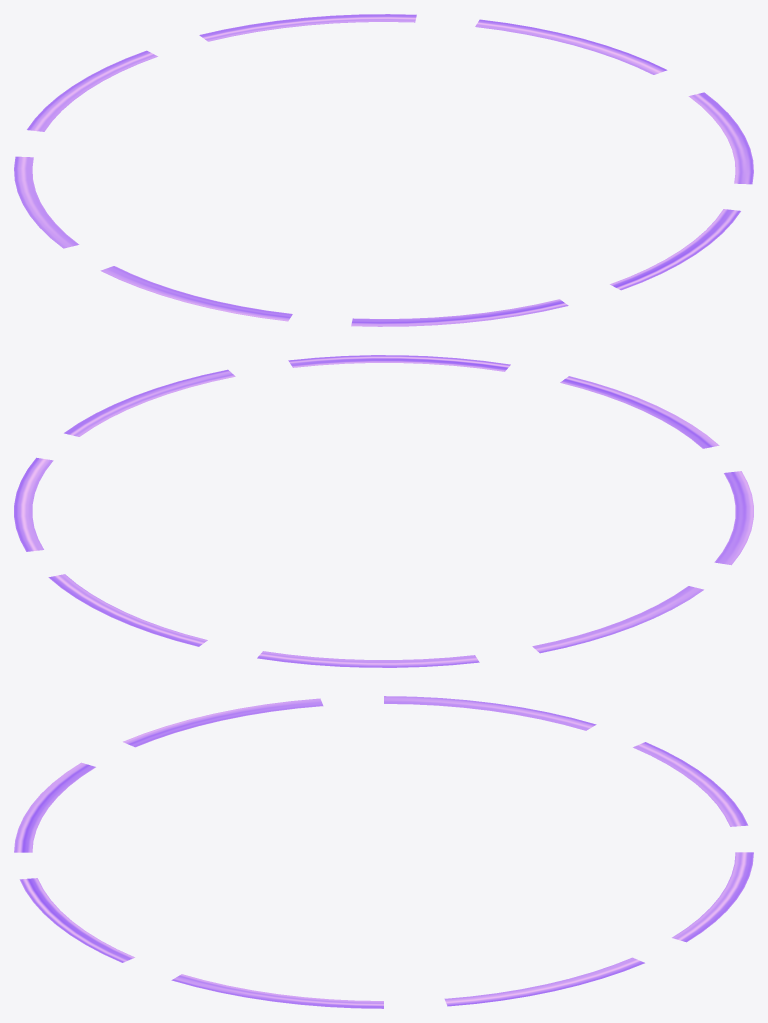
The model's file is effect.glb.
3 views of the same model, one above another, from view 1: azimuth 30°, elevation 25°; view 2: azimuth 150°, elevation 25°; view 3: azimuth 270°, elevation 25° (orthographic).
Parts seen in each view (by area): view 1: ring 1 phase 1, ring 1 phase 2; view 2: ring 1 phase 1, ring 1 phase 2; view 3: ring 1 phase 1, ring 1 phase 2.
Part boxes in pixels (x1,y1,x2,y2): ring 1 phase 1: (14, 14, 753, 326); ring 1 phase 2: (14, 14, 753, 326); ring 1 phase 1: (14, 355, 753, 667); ring 1 phase 2: (14, 355, 753, 667); ring 1 phase 1: (14, 696, 753, 1008); ring 1 phase 2: (14, 696, 753, 1008).
Size of what is drawn, in the model's own units: 0.000138 by 0 by 0.000138.
7 materials, 7 textured.
